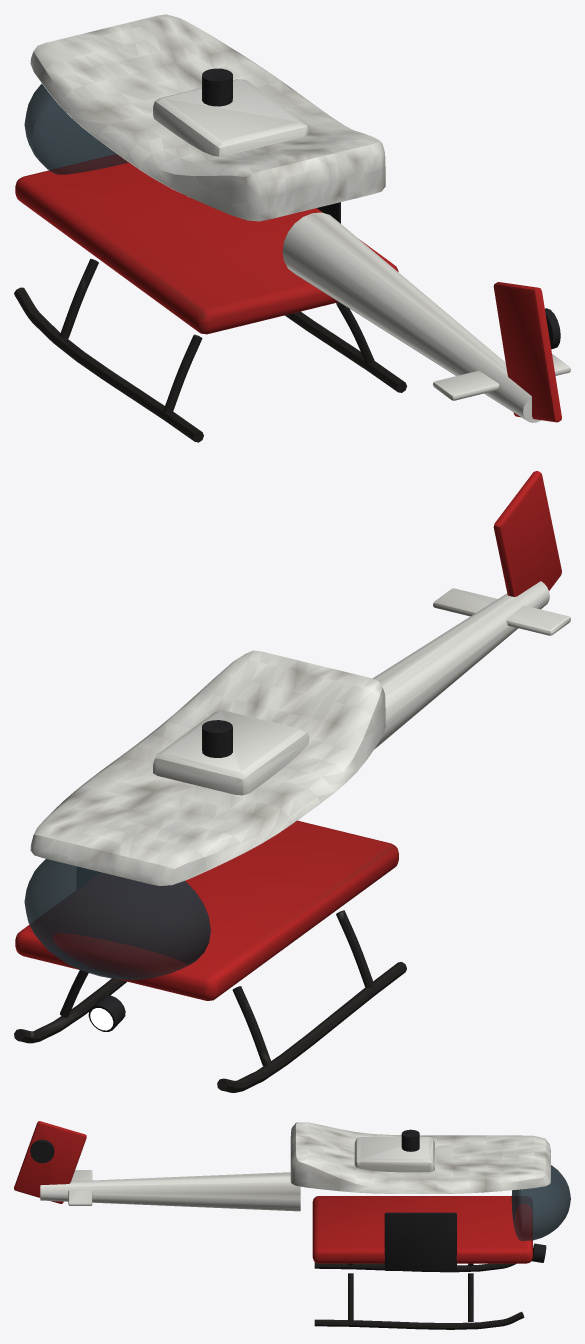
The model's file is Helicopter.glb.
The picture shows the model from 3 angles, top to bottom: view 1: azimuth 30°, elevation 25°; view 2: azimuth 150°, elevation 25°; view 3: azimuth 270°, elevation 25°; orthographic projection. The views are drawn at different scales.
Parts seen in each view (by area): view 1: Helicopter_paint_white, Helicopter_paint_rescue_red, Helicopter_metal_dark, Helicopter_glass_dark; view 2: Helicopter_paint_white, Helicopter_paint_rescue_red, Helicopter_glass_dark, Helicopter_metal_dark; view 3: Helicopter_paint_white, Helicopter_paint_rescue_red, Helicopter_metal_dark, Helicopter_glass_dark.
Boxes of the visible parts, x1,y1,x2,y2 form: Helicopter_paint_white: (30, 14, 570, 422); Helicopter_paint_rescue_red: (15, 154, 561, 422); Helicopter_metal_dark: (14, 68, 560, 442); Helicopter_glass_dark: (24, 83, 128, 174); Helicopter_paint_white: (30, 581, 570, 885); Helicopter_paint_rescue_red: (15, 471, 561, 1000); Helicopter_glass_dark: (24, 859, 210, 979); Helicopter_metal_dark: (14, 720, 406, 1092); Helicopter_paint_white: (40, 1122, 550, 1211); Helicopter_paint_rescue_red: (14, 1121, 532, 1263); Helicopter_metal_dark: (30, 1129, 546, 1329); Helicopter_glass_dark: (511, 1165, 570, 1240).
Bounding box in the file's own units: 7.16 × 9.9 × 27.82.
